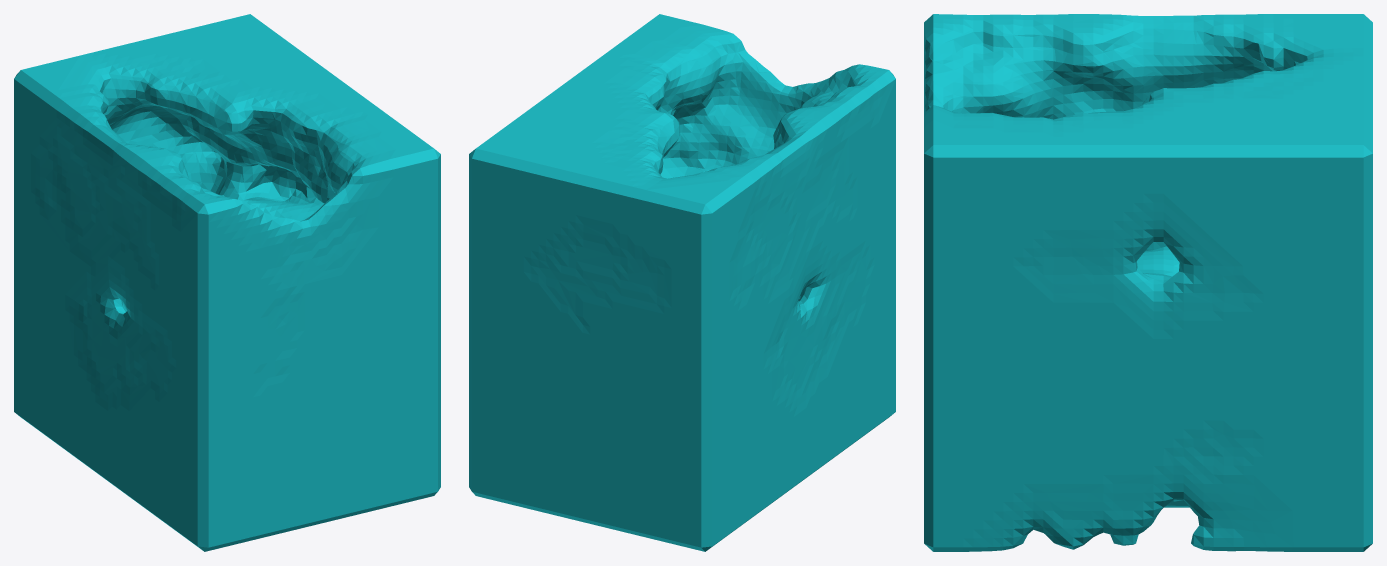
3 views of the same model, side by side, from view 1: azimuth 30°, elevation 25°; view 2: azimuth 150°, elevation 25°; view 3: azimuth 270°, elevation 25° (orthographic). The views are drawn at different scales.
Visible parts, largest first — view 1: Liquid_Domain; view 2: Liquid_Domain; view 3: Liquid_Domain.
Part boxes in pixels (x1=…): Liquid_Domain: x1=14, y1=14, x2=440, y2=551; Liquid_Domain: x1=469, y1=14, x2=895, y2=551; Liquid_Domain: x1=924, y1=14, x2=1372, y2=551.
Bounding box in the file's own units: 79.09 × 108 × 108.
